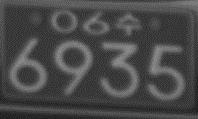0: (50, 8, 79, 35)
3: (99, 41, 138, 98)
5: (146, 44, 186, 102)
6: (8, 36, 47, 94), (82, 10, 110, 36)
9: (54, 38, 93, 96)
수: (114, 10, 142, 36)
